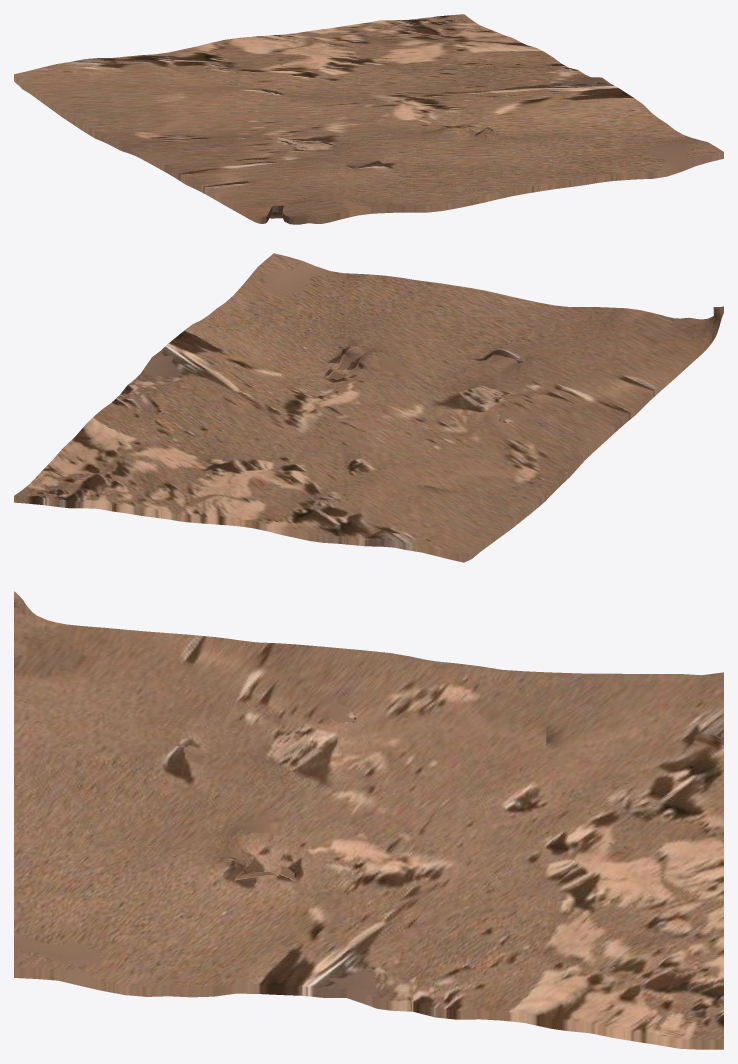
3 views of the same model, one above another, from view 1: azimuth 30°, elevation 25°; view 2: azimuth 150°, elevation 25°; view 3: azimuth 270°, elevation 25° (orthographic). The views are drawn at different scales.
Size of the model in its own units: 2 by 0.4924 by 2.
Materials: 1 (1 with a texture image).
